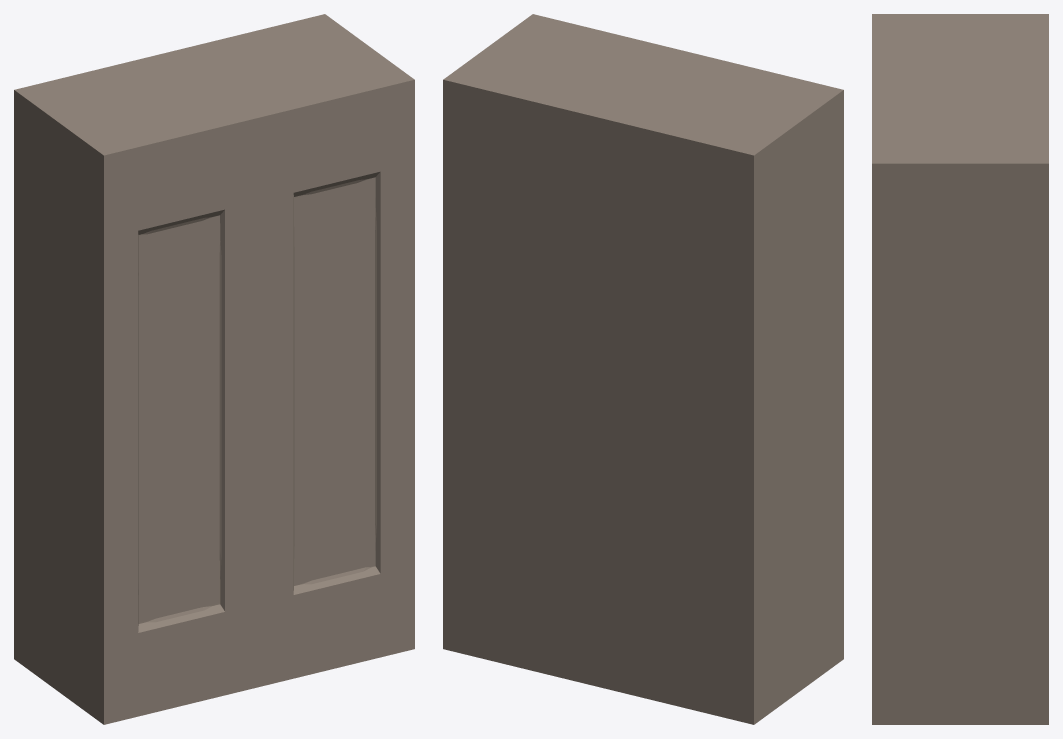
The model's file is Wall-Cabinet-18-High-12-Deep_std_001_H42in_onlyH.glb.
3 renders of one model, left to right at view 1: azimuth 30°, elevation 25°; view 2: azimuth 150°, elevation 25°; view 3: azimuth 270°, elevation 25°, orthographic.
Visible parts, largest first — view 1: Wall-Cabinet-18-High-12-Deep.std.001_H42in_onlyH; view 2: Wall-Cabinet-18-High-12-Deep.std.001_H42in_onlyH; view 3: Wall-Cabinet-18-High-12-Deep.std.001_H42in_onlyH.
Part boxes in pixels (bbox=[...]): Wall-Cabinet-18-High-12-Deep.std.001_H42in_onlyH: bbox=[14, 14, 414, 724]; Wall-Cabinet-18-High-12-Deep.std.001_H42in_onlyH: bbox=[443, 14, 843, 724]; Wall-Cabinet-18-High-12-Deep.std.001_H42in_onlyH: bbox=[872, 14, 1048, 724].
Size of the model in its own units: 0.6096 by 1.07 by 0.3048.
